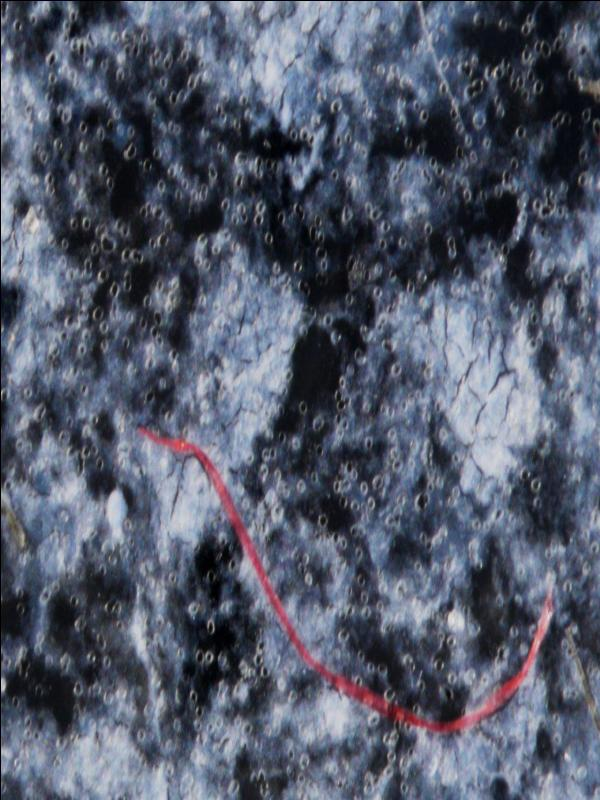microplastic: (2, 1, 599, 796), (135, 418, 555, 736)
